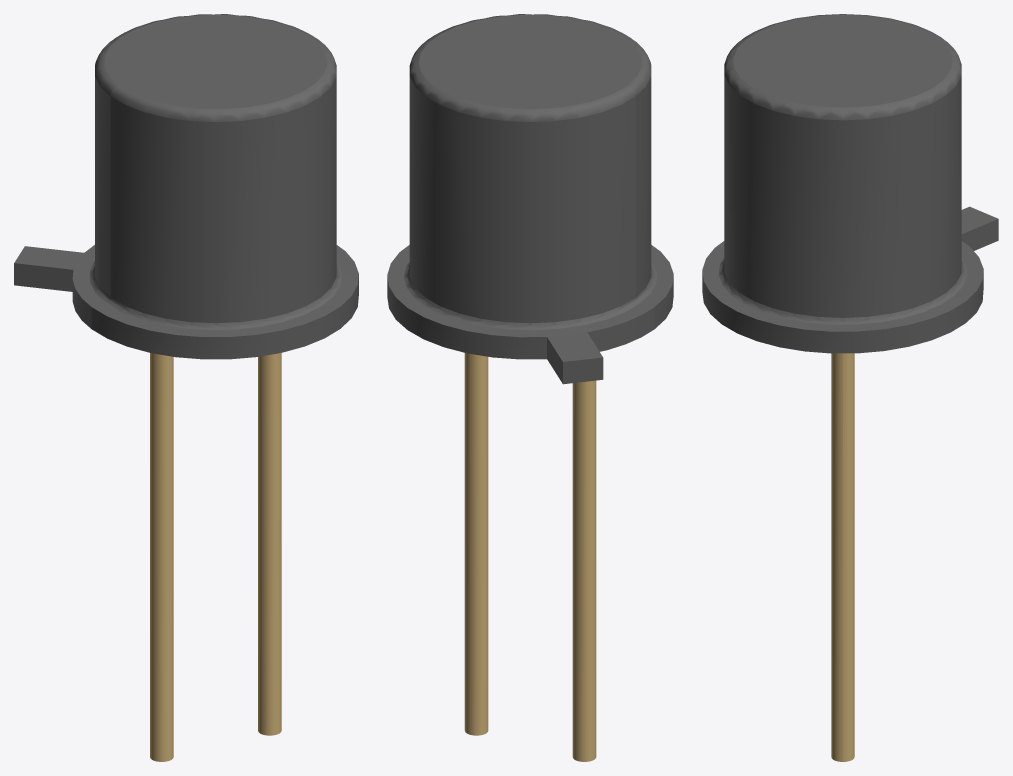
3 views of the same model, side by side, from view 1: azimuth 30°, elevation 25°; view 2: azimuth 150°, elevation 25°; view 3: azimuth 270°, elevation 25° (orthographic).
Parts seen in each view (by area): view 1: 0.16666666666666666_0.16666666666666666_0.16666666666666666_, 0.75_0.5_0.25_0.9; view 2: 0.16666666666666666_0.16666666666666666_0.16666666666666666_, 0.75_0.5_0.25_0.9; view 3: 0.16666666666666666_0.16666666666666666_0.16666666666666666_, 0.75_0.5_0.25_0.9.
Boxes of the visible parts, x1,y1,x2,y2 form: 0.16666666666666666_0.16666666666666666_0.16666666666666666_: [14, 14, 358, 359]; 0.75_0.5_0.25_0.9: [150, 353, 281, 761]; 0.16666666666666666_0.16666666666666666_0.16666666666666666_: [387, 14, 673, 384]; 0.75_0.5_0.25_0.9: [464, 353, 596, 761]; 0.16666666666666666_0.16666666666666666_0.16666666666666666_: [702, 14, 998, 353]; 0.75_0.5_0.25_0.9: [831, 353, 854, 761].
Bounding box in the file's own units: 0.6138 × 1.53 × 0.6145.
